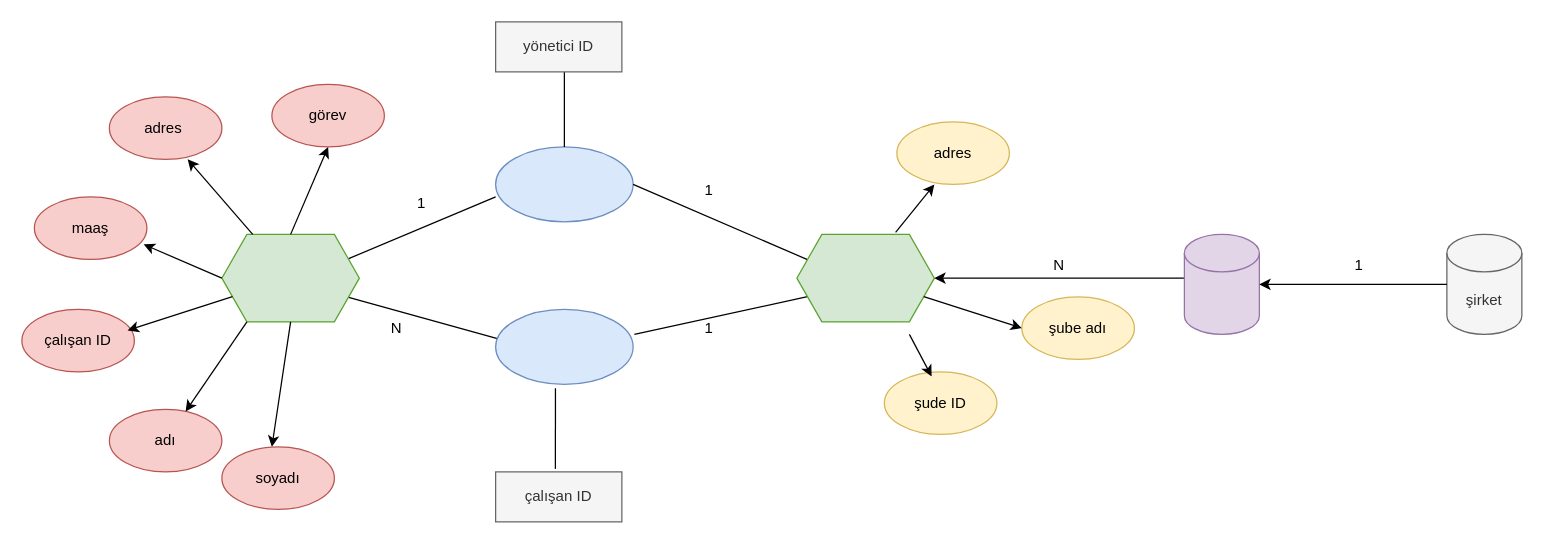
The diagram is 1544 pixels wide and 544 high, and some of its shapes have lost their labels. The centre of each missing label's shape, as x and y in pixels:
sahiptir: (1221,283)
yönetir: (563,184)
çalışan: (290,277)
çalışır: (563,346)
şube: (865,277)
